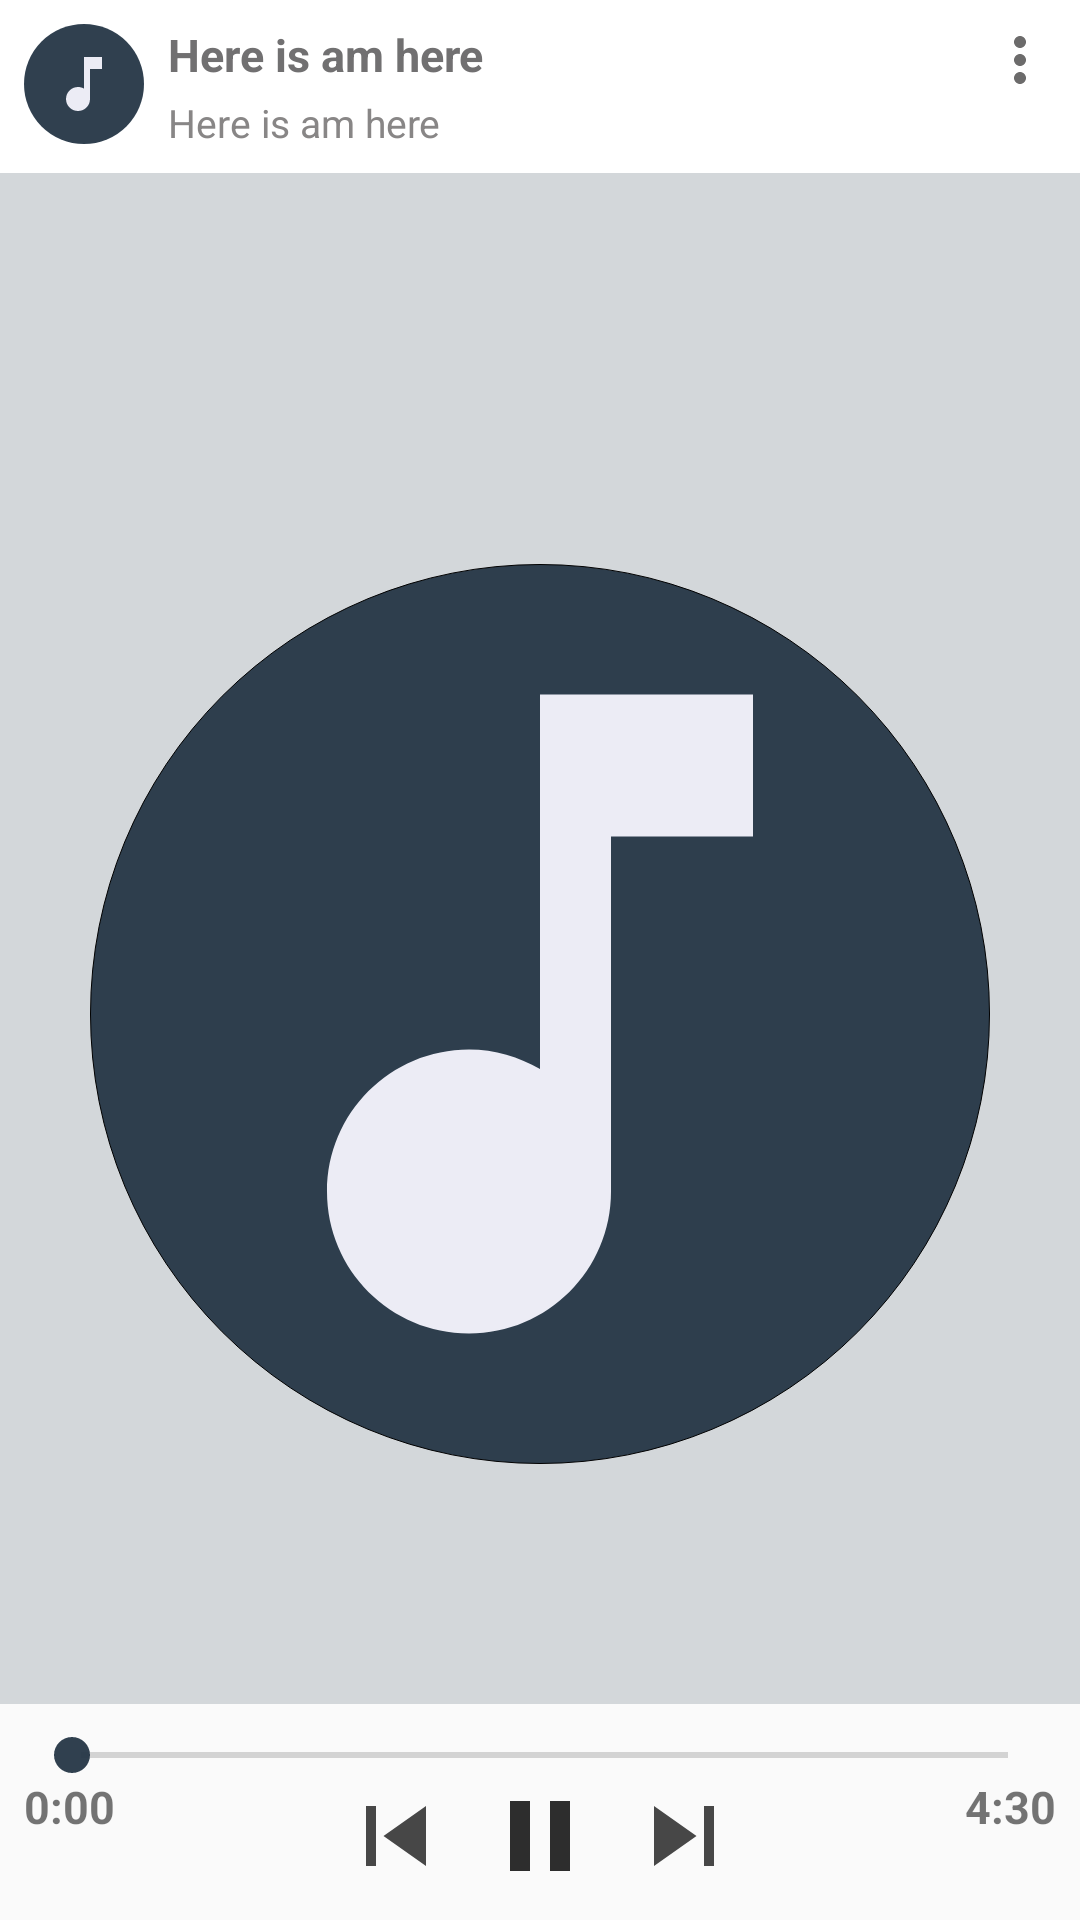

Icons on this 1080px×1920px Android screen, each with its box as detection(x1, y1, x2, y2):
more vert: detection(1014, 36, 1026, 84)
pause: detection(510, 1801, 570, 1871)
skip next: detection(654, 1806, 714, 1866)
skip previous: detection(366, 1806, 426, 1866)
